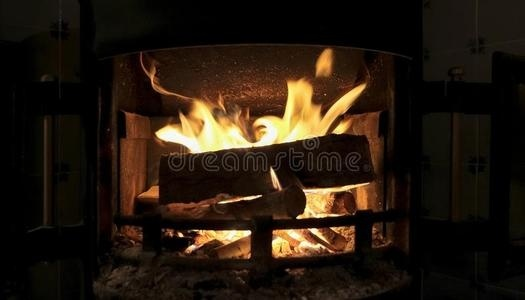fire: (140, 53, 368, 153), (170, 165, 370, 258)
